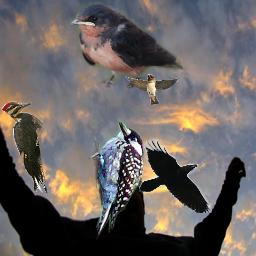Crow: (139, 138, 212, 213)
Swallow: (69, 2, 184, 90), (124, 74, 180, 105)
Woodpecker: (77, 115, 153, 246), (1, 101, 48, 195)
